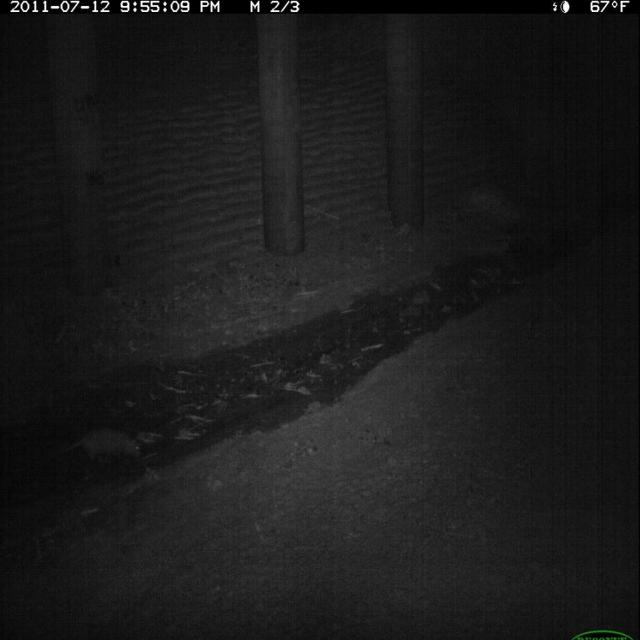opossum: (53, 422, 147, 473)
